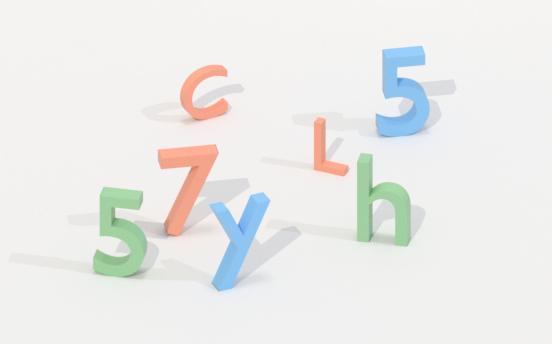5: (91, 182, 148, 281), (374, 44, 430, 139)
7: (154, 144, 221, 239)
Y: (205, 193, 273, 293)
c: (179, 62, 231, 122)
h: (354, 148, 416, 250)
l: (309, 115, 350, 177)
